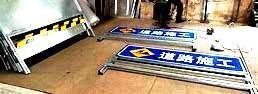sign: (124, 47, 244, 72), (113, 28, 192, 38)
